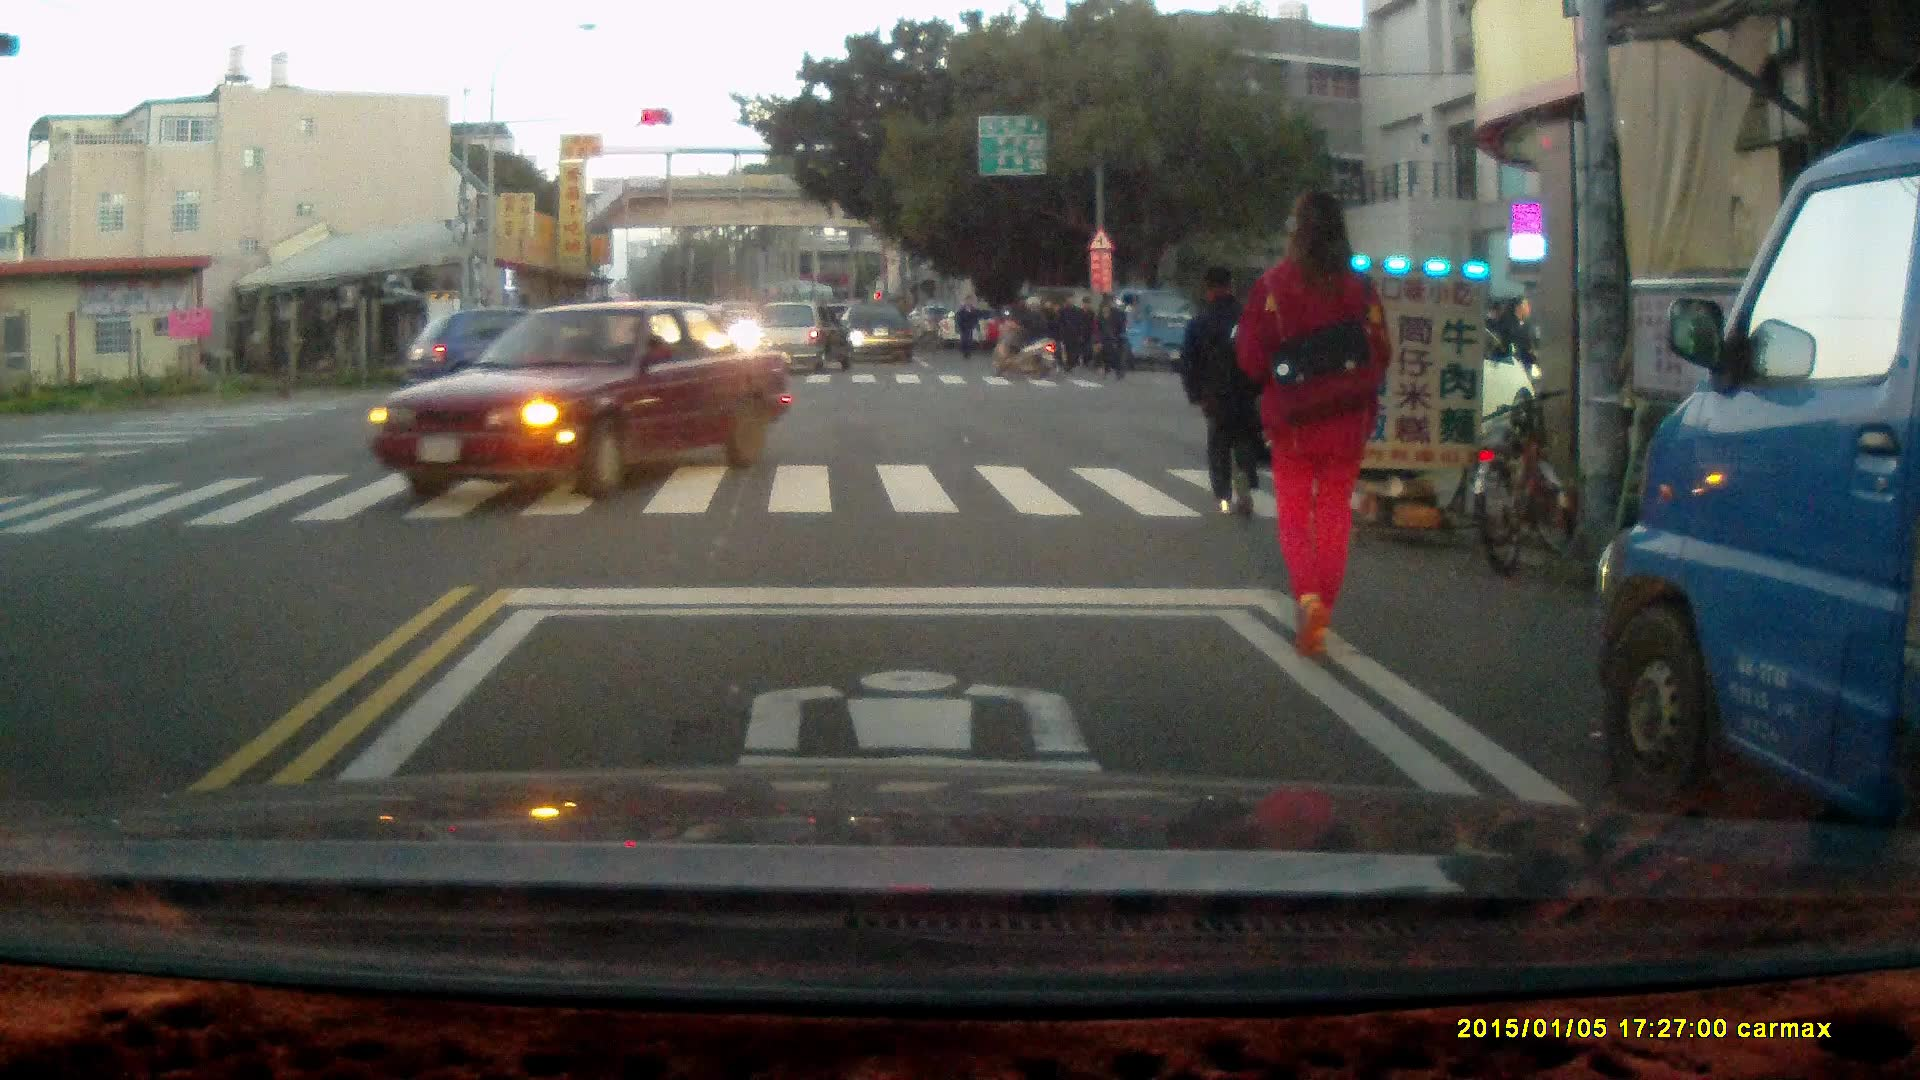pedestrian: (1239, 193, 1390, 669), (1176, 257, 1279, 524), (1491, 294, 1539, 421), (1051, 290, 1083, 375), (1091, 296, 1117, 370), (954, 292, 977, 363)
rider: (995, 293, 1053, 380)
vehicle: (1598, 132, 1920, 867), (368, 303, 801, 497), (1233, 296, 1533, 459), (1002, 284, 1203, 367), (831, 296, 922, 366)
